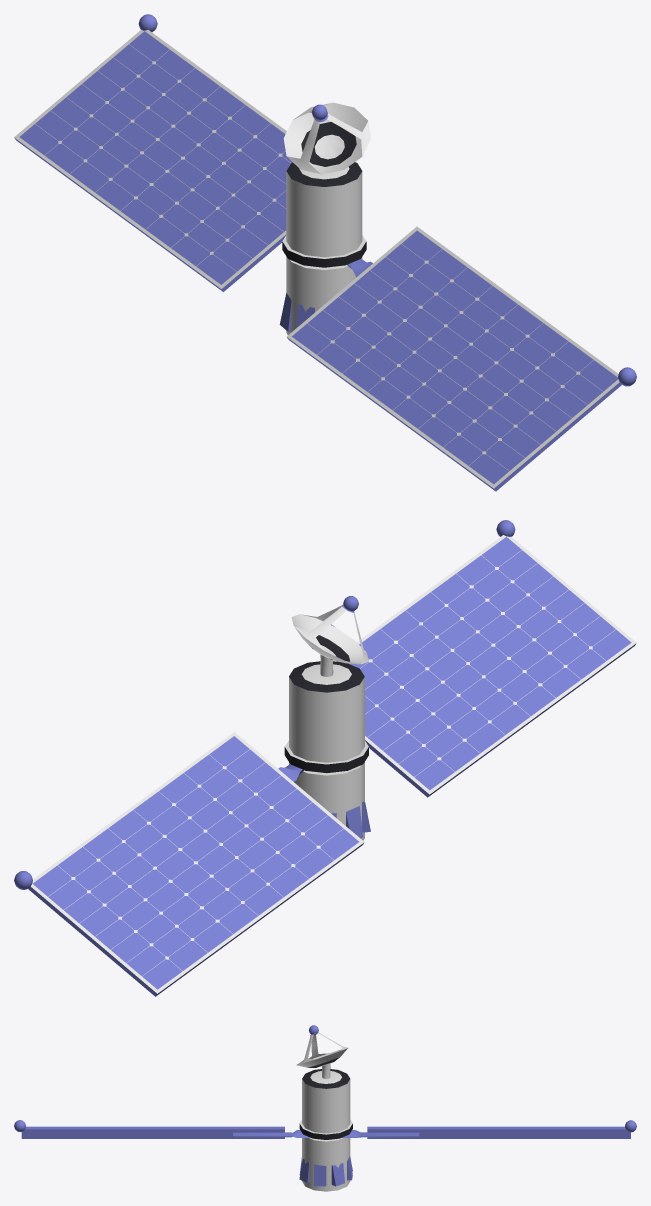
The model's file is sattalite.fbx.
3 views of the same model, one above another, from view 1: azimuth 30°, elevation 25°; view 2: azimuth 150°, elevation 25°; view 3: azimuth 270°, elevation 25° (orthographic). The views are drawn at different scales.
Parts seen in each view (by area): view 1: Cube_000, Cylinder, Sphere; view 2: Cube_000, Cylinder, Sphere; view 3: Cube_000, Cylinder, Cylinder_001, Sphere.
Part boxes in pixels (x1,y1,x2,y2): Cube_000: (14,30,621,491); Cylinder: (282,102,370,334); Sphere: (138,14,636,386); Cube_000: (28,535,636,996); Cylinder: (284,604,368,840); Sphere: (14,520,515,889); Cube_000: (21,1126,630,1138); Cylinder: (296,1032,352,1191); Cylinder_001: (299,1156,352,1186); Sphere: (14,1025,636,1132).
Bounding box in the file's own units: 432 × 691 × 2579.
